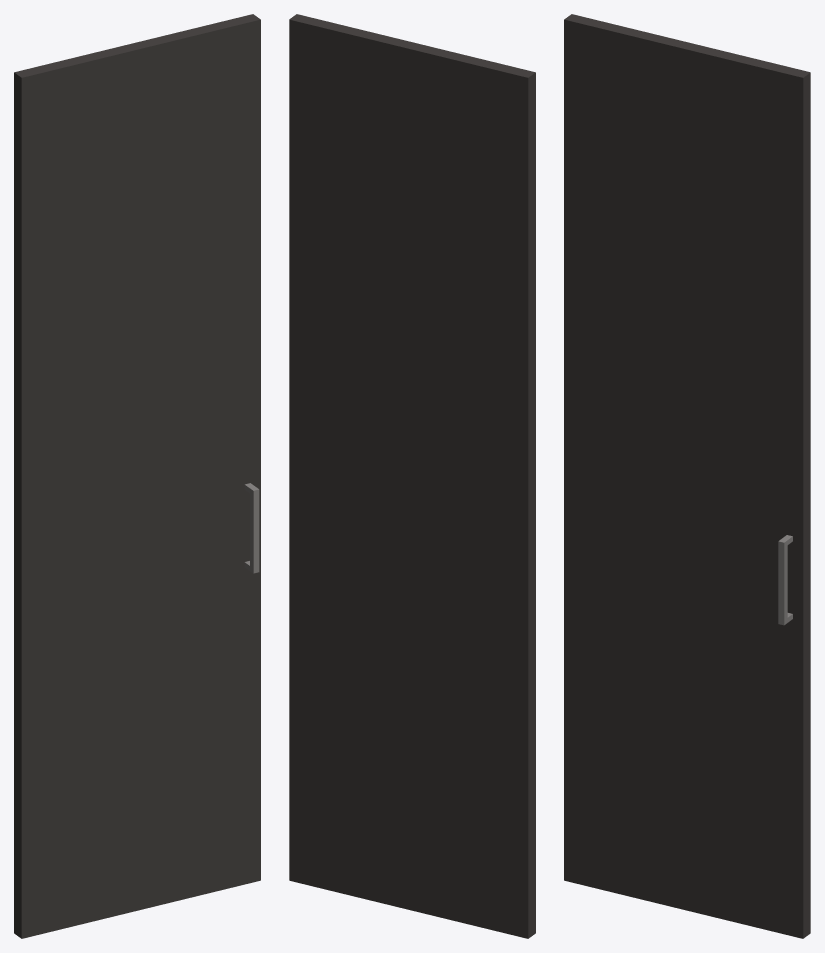
The model's file is Cupboard_05_02.fbx.
3 renders of one model, left to right at view 1: azimuth 30°, elevation 25°; view 2: azimuth 150°, elevation 25°; view 3: azimuth 330°, elevation 25°, orthographic.
Visible parts, largest first — view 1: Cupboard_05_02; view 2: Cupboard_05_02; view 3: Cupboard_05_02.
Part boxes in pixels (x1,y1,x2,y2): Cupboard_05_02: (14,14,260,938); Cupboard_05_02: (289,14,535,938); Cupboard_05_02: (564,14,810,938).
Bounding box in the file's own units: 57.64 × 198 × 6.86.
